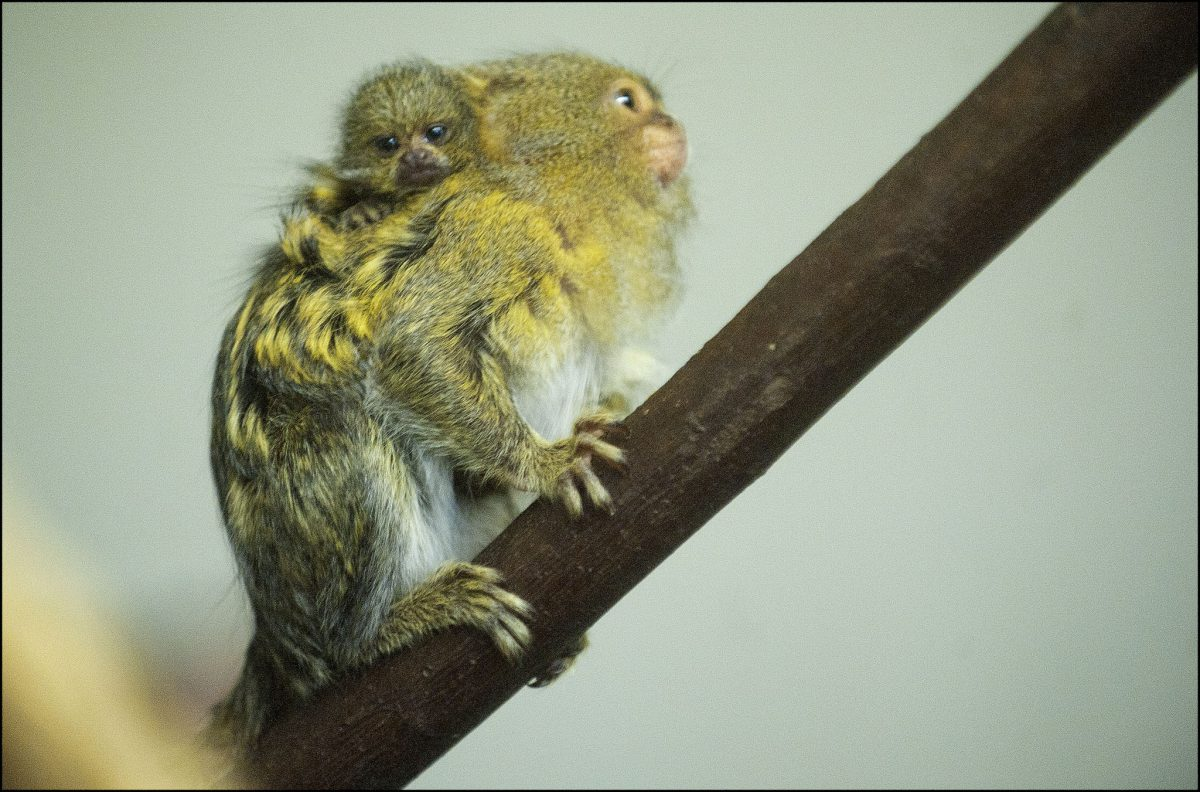PygmyMarmoset: (214, 41, 703, 641)
